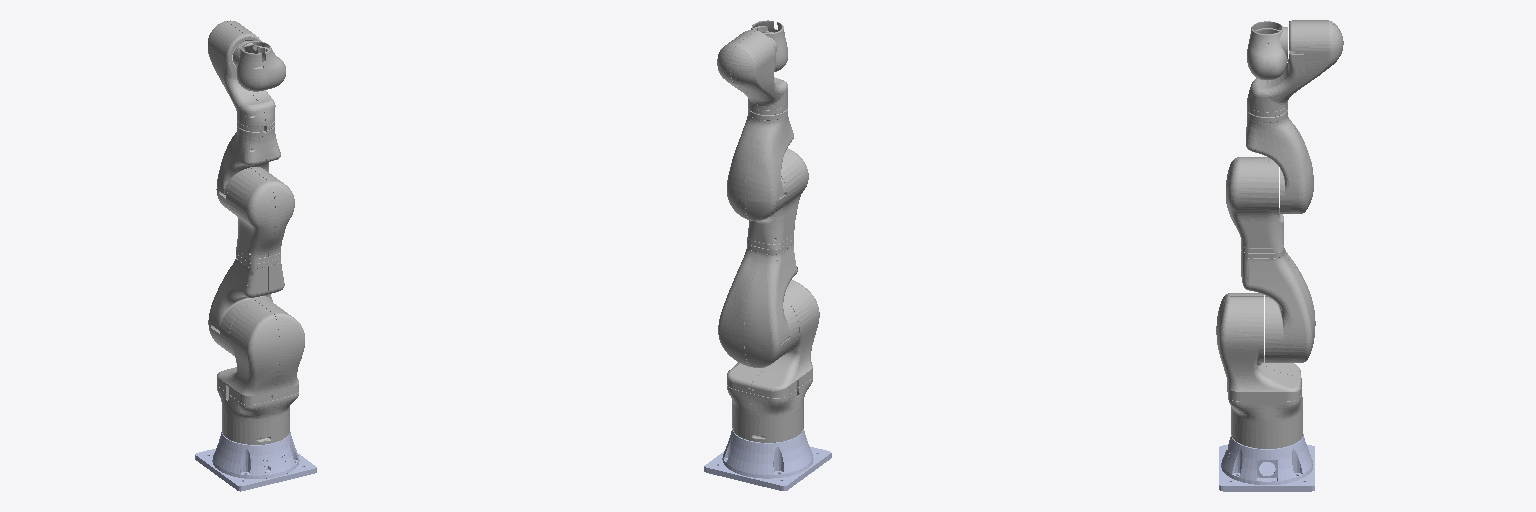
The robot description file, URDF, robot "scorpio_arm_description":
<robot
  name="scorpio_arm_description">
  <link
    name="base_link">
    <inertial>
      <origin
        xyz="-0.0023174739871849 0.000926090335802012 0.0320057013975666"
        rpy="0 0 0" />
      <mass
        value="2.11601477785116" />
      <inertia
        ixx="0.00202448875112996"
        ixy="4.37456323015973E-05"
        ixz="0.000128545243673656"
        iyy="0.00131223237035268"
        iyz="-0.000182115234066843"
        izz="0.000782866740229756" />
    </inertial>
    <visual>
      <origin
        xyz="0 0 0"
        rpy="0 0 0" />
      <geometry>
        <mesh
          filename="package://scorpio_arm_description/meshes/base_link.STL" />
      </geometry>
      <material
        name="">
        <color
          rgba="0.792156862745098 0.819607843137255 0.933333333333333 1" />
      </material>
    </visual>
    <collision>
      <origin
        xyz="0 0 0"
        rpy="0 0 0" />
      <geometry>
        <mesh
          filename="package://scorpio_arm_description/meshes/base_link.STL" />
      </geometry>
    </collision>
  </link>
  <link
    name="link1">
    <inertial>
      <origin
        xyz="0.000477211763040618 -0.00737171225105655 0.0673262959495374"
        rpy="0 0 0" />
      <mass
        value="0.462790481374203" />
      <inertia
        ixx="0.000939965910200995"
        ixy="1.64506977488472E-06"
        ixz="2.63906539352481E-05"
        iyy="0.00212746857726697"
        iyz="0.000232679816143088"
        izz="0.00200259662994076" />
    </inertial>
    <visual>
      <origin
        xyz="0 0 0"
        rpy="0 0 0" />
      <geometry>
        <mesh
          filename="package://scorpio_arm_description/meshes/link1.STL" />
      </geometry>
      <material
        name="">
        <color
          rgba="0.752941176470588 0.752941176470588 0.752941176470588 1" />
      </material>
    </visual>
    <collision>
      <origin
        xyz="0 0 0"
        rpy="0 0 0" />
      <geometry>
        <mesh
          filename="package://scorpio_arm_description/meshes/link1.STL" />
      </geometry>
    </collision>
  </link>
  <joint
    name="joint1"
    type="revolute">
    <origin
      xyz="0 0 0.1115"
      rpy="1.65436122510606E-24 -2.16239755607771E-34 1.77925042286121E-10" />
    <parent
      link="base_link" />
    <child
      link="link1" />
    <axis
      xyz="0 0 1" />
  </joint>
  <link
    name="link2">
    <inertial>
      <origin
        xyz="0.000424568456060078 0.353718613538131 -0.0239145484479153"
        rpy="0 0 0" />
      <mass
        value="0.449203640099021" />
      <inertia
        ixx="0.0015378612168218"
        ixy="-8.28836534643506E-05"
        ixz="-8.8533118166461E-06"
        iyy="0.000798472791972848"
        iyz="0.000260149183654036"
        izz="0.00223846447973205" />
    </inertial>
    <visual>
      <origin
        xyz="0 0 0"
        rpy="0 0 0" />
      <geometry>
        <mesh
          filename="package://scorpio_arm_description/meshes/link2.STL" />
      </geometry>
      <material
        name="">
        <color
          rgba="0.752941176470588 0.752941176470588 0.752941176470588 1" />
      </material>
    </visual>
    <collision>
      <origin
        xyz="0 0 0"
        rpy="0 0 0" />
      <geometry>
        <mesh
          filename="package://scorpio_arm_description/meshes/link2.STL" />
      </geometry>
    </collision>
  </link>
  <joint
    name="joint2"
    type="revolute">
    <origin
      xyz="0 -0.00775000309120119 0.314499999923826"
      rpy="1.57079631696602 1.748803E-18 3.14159265358979" />
    <parent
      link="link1" />
    <child
      link="link2" />
    <axis
      xyz="0 0 -1" />
  </joint>
  <link
    name="link3">
    <inertial>
      <origin
        xyz="0.000152270903135399 0.0924043712970328 0.00966148754882001"
        rpy="0 0 0" />
      <mass
        value="0.417553118840387" />
      <inertia
        ixx="0.000778760838885269"
        ixy="-3.13198465335913E-05"
        ixz="9.73666822020826E-06"
        iyy="0.000747408221931019"
        iyz="0.000238313418273415"
        izz="0.00134923661677296" />
    </inertial>
    <visual>
      <origin
        xyz="0 0 0"
        rpy="0 0 0" />
      <geometry>
        <mesh
          filename="package://scorpio_arm_description/meshes/link3.STL" />
      </geometry>
      <material
        name="">
        <color
          rgba="0.752941176470588 0.752941176470588 0.752941176470588 1" />
      </material>
    </visual>
    <collision>
      <origin
        xyz="0 0 0"
        rpy="0 0 0" />
      <geometry>
        <mesh
          filename="package://scorpio_arm_description/meshes/link3.STL" />
      </geometry>
    </collision>
  </link>
  <joint
    name="joint3"
    type="revolute">
    <origin
      xyz="0 0.425000094137017 0.0409999999973247"
      rpy="0 0 0" />
    <parent
      link="link2" />
    <child
      link="link3" />
    <axis
      xyz="0 0 -1" />
  </joint>
  <link
    name="link4">
    <inertial>
      <origin
        xyz="-0.000109431918942653 0.077158563508547 0.125643446015501"
        rpy="0 0 0" />
      <mass
        value="0.389829536577821" />
      <inertia
        ixx="0.000675923696287507"
        ixy="1.42692185757281E-05"
        ixz="1.80236338044167E-05"
        iyy="0.000935956861167347"
        iyz="-0.000316733780223225"
        izz="0.000711962809217492" />
    </inertial>
    <visual>
      <origin
        xyz="0 0 0"
        rpy="0 0 0" />
      <geometry>
        <mesh
          filename="package://scorpio_arm_description/meshes/link4.STL" />
      </geometry>
      <material
        name="">
        <color
          rgba="0.745098039215686 0.745098039215686 0.745098039215686 1" />
      </material>
    </visual>
    <collision>
      <origin
        xyz="0 0 0"
        rpy="0 0 0" />
      <geometry>
        <mesh
          filename="package://scorpio_arm_description/meshes/link4.STL" />
      </geometry>
    </collision>
  </link>
  <joint
    name="jointt4"
    type="revolute">
    <origin
      xyz="-1.49404937263287E-05 0.227498306290618 -0.0332478801440056"
      rpy="1.5707963267949 0 3.14159265358979" />
    <parent
      link="link3" />
    <child
      link="link4" />
    <axis
      xyz="0 0 1" />
  </joint>
  <link
    name="link5">
    <inertial>
      <origin
        xyz="-0.0164538792900367 -0.0131997782617814 0.0535428562871822"
        rpy="0 0 0" />
      <mass
        value="0.0811646525056553" />
      <inertia
        ixx="3.8241672406913E-05"
        ixy="-3.51809591080221E-05"
        ixz="2.21993678800905E-07"
        iyy="7.49045940980439E-05"
        iyz="3.14976478834827E-06"
        izz="9.12568490681757E-05" />
    </inertial>
    <visual>
      <origin
        xyz="0 0 0"
        rpy="0 0 0" />
      <geometry>
        <mesh
          filename="package://scorpio_arm_description/meshes/link5.STL" />
      </geometry>
      <material
        name="">
        <color
          rgba="0.752941176470588 0.752941176470588 0.752941176470588 1" />
      </material>
    </visual>
    <collision>
      <origin
        xyz="0 0 0"
        rpy="0 0 0" />
      <geometry>
        <mesh
          filename="package://scorpio_arm_description/meshes/link5.STL" />
      </geometry>
    </collision>
  </link>
  <joint
    name="joint5"
    type="revolute">
    <origin
      xyz="1.61883599970582E-05 0.0570007543469901 0.197500000000056"
      rpy="1.5707963267949 0 0" />
    <parent
      link="link4" />
    <child
      link="link5" />
    <axis
      xyz="0 0 1" />
  </joint>
  <link
    name="link6">
    <inertial>
      <origin
        xyz="0.0140802343921899 0.000715202824271812 -0.0242401399481398"
        rpy="0 0 0" />
      <mass
        value="0.274564330363397" />
      <inertia
        ixx="0.000570513704751697"
        ixy="3.53601263212298E-05"
        ixz="-0.0001835018536208"
        iyy="0.000602989236794198"
        iyz="0.000127335543314514"
        izz="0.000179445348585875" />
    </inertial>
    <visual>
      <origin
        xyz="0 0 0"
        rpy="0 0 0" />
      <geometry>
        <mesh
          filename="package://scorpio_arm_description/meshes/link6.STL" />
      </geometry>
      <material
        name="">
        <color
          rgba="0.752941176470588 0.752941176470588 0.752941176470588 1" />
      </material>
    </visual>
    <collision>
      <origin
        xyz="0 0 0"
        rpy="0 0 0" />
      <geometry>
        <mesh
          filename="package://scorpio_arm_description/meshes/link6.STL" />
      </geometry>
    </collision>
  </link>
  <joint
    name="joint6"
    type="revolute">
    <origin
      xyz="-3.11288537899817E-05 0.0754015995721986 0.0570028742029768"
      rpy="-1.5707963267949 -1.04851706378525E-28 -2.11069071793014E-14" />
    <parent
      link="link5" />
    <child
      link="link6" />
    <axis
      xyz="0 0 1" />
  </joint>
</robot>

--- Render facts (derived) ---
3 views of the same robot in one strip: view 1: azimuth 30°, elevation 25°; view 2: azimuth 150°, elevation 25°; view 3: azimuth 270°, elevation 25° (orthographic).
Robot: scorpio_arm_description — 7 links, 6 joints (6 revolute); root link base_link; default pose: every joint at zero.
Visible links, largest first — view 1: link1, link2, base_link, link4, link3, link5; view 2: link2, link1, link3, base_link, link4, link5; view 3: link2, link1, link4, base_link, link3, link5.
Boxes of the visible links, x1=… form: link1: x1=217, y1=301, x2=304, y2=444; link2: x1=208, y1=167, x2=294, y2=355; base_link: x1=195, y1=432, x2=316, y2=491; link4: x1=208, y1=20, x2=275, y2=131; link3: x1=216, y1=126, x2=280, y2=211; link5: x1=233, y1=41, x2=285, y2=91; link2: x1=718, y1=148, x2=808, y2=367; link1: x1=727, y1=280, x2=819, y2=442; link3: x1=727, y1=109, x2=793, y2=220; base_link: x1=704, y1=428, x2=831, y2=490; link4: x1=717, y1=30, x2=787, y2=114; link5: x1=751, y1=20, x2=787, y2=71; link2: x1=1226, y1=157, x2=1315, y2=362; link1: x1=1216, y1=293, x2=1302, y2=448; link4: x1=1247, y1=20, x2=1343, y2=116; base_link: x1=1219, y1=434, x2=1314, y2=491; link3: x1=1246, y1=110, x2=1313, y2=213; link5: x1=1247, y1=21, x2=1287, y2=80.
Size in the robot's own frame: 0.26 by 0.3438 by 1.34 metres.
6 mesh visuals loaded from 7 distinct referenced files (6 binary STL); not drawn: 1 (reference not matched to a file when rendering).